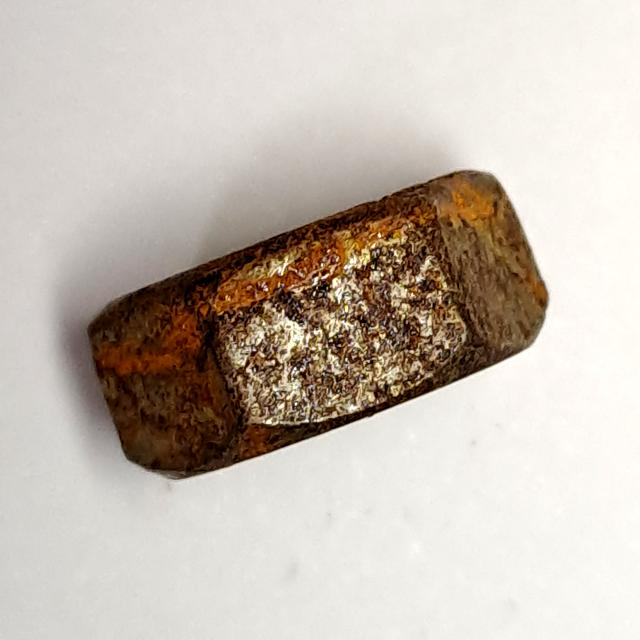Side_Rust: (76, 158, 561, 495)
